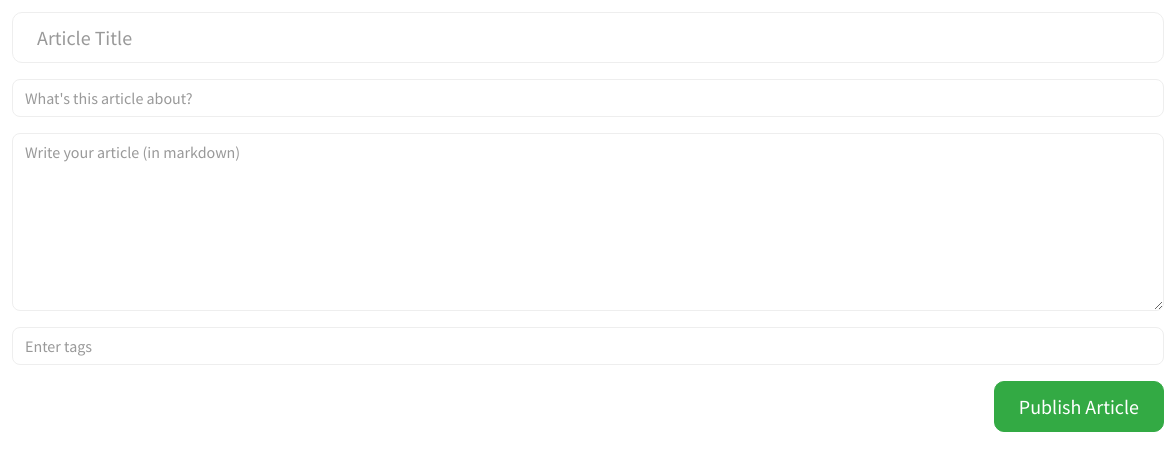
Test: ArticleEditorForm › create article › should display an error message when creating article fails
In the field with placeholder "Article Title": (588, 38) left=12, top=12, right=1164, bottom=63, type "Duplicate"
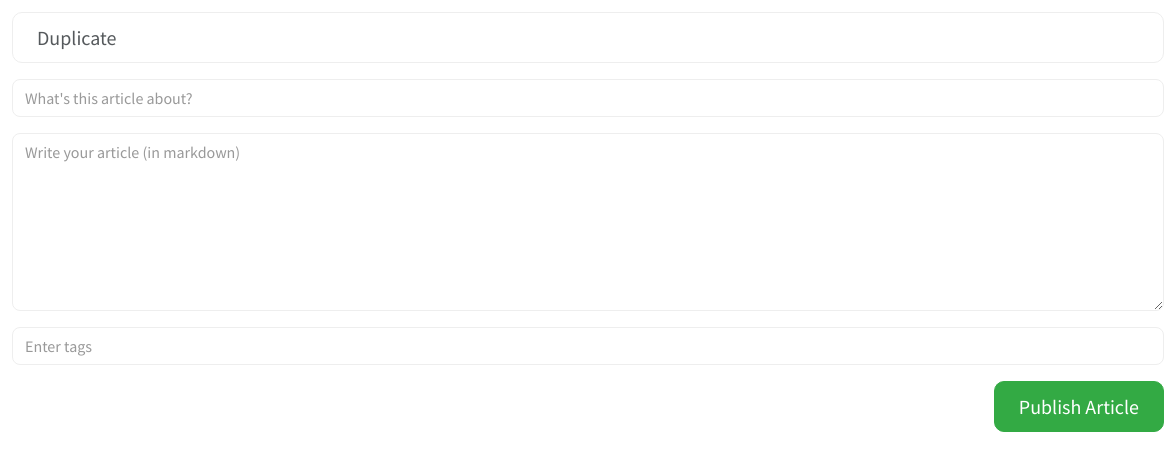
In the field with placeholder "What's this article about?": (588, 98) left=12, top=79, right=1164, bottom=117, type "Duplicate article"
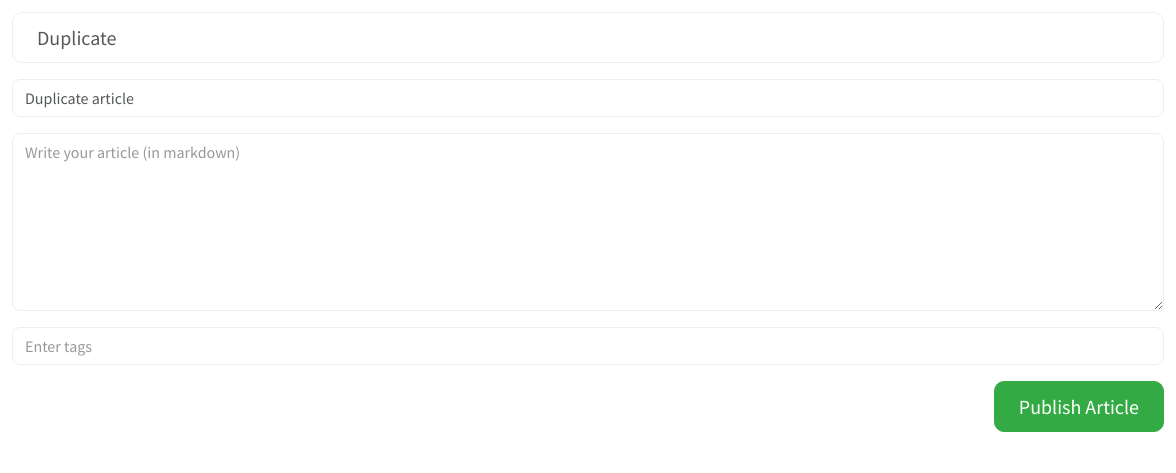
In the text box with placeholder "Write your article (in markdown)": (588, 222) left=12, top=133, right=1164, bottom=311, type "Clone"
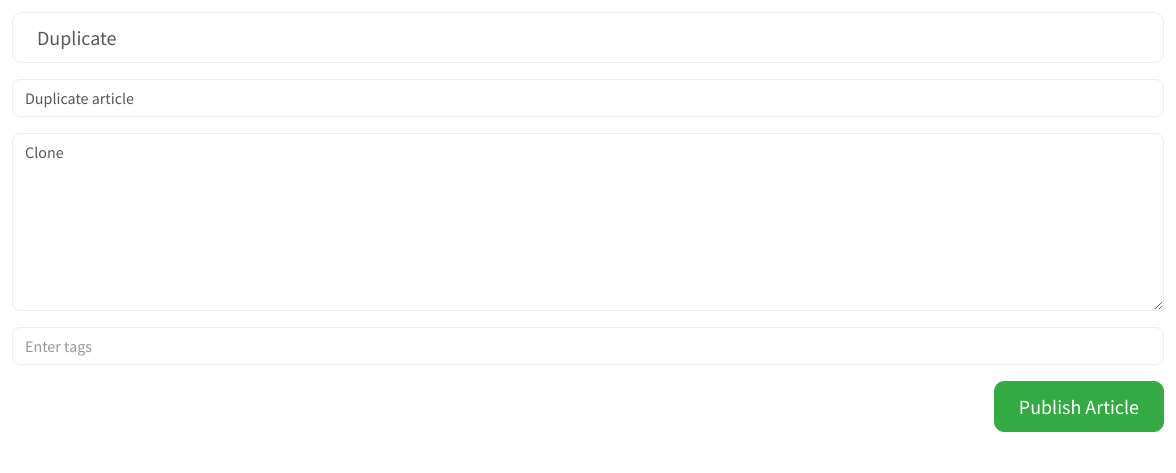
Click the button "Publish Article": (1079, 406) left=994, top=381, right=1164, bottom=432
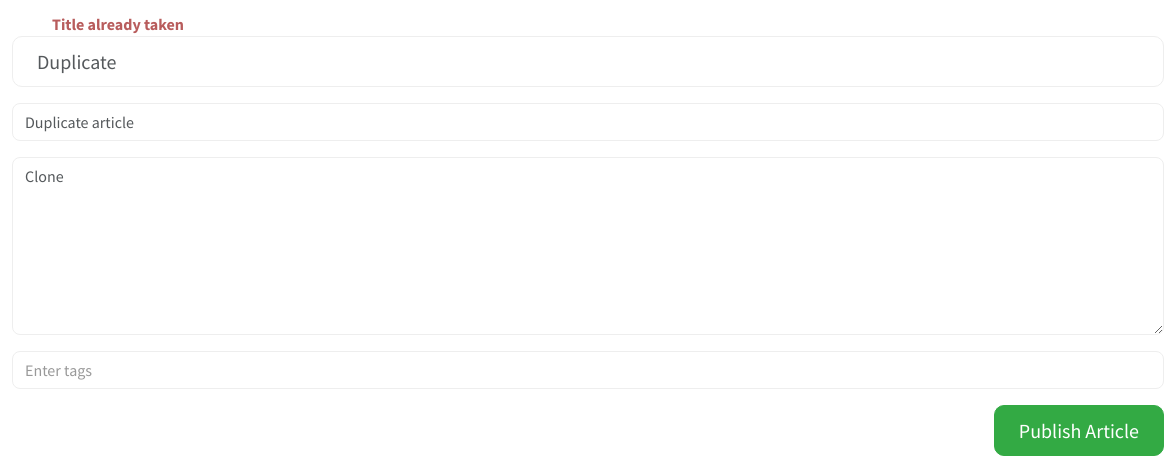
Now the text "Title already taken" is shown, box left=52, top=14, right=184, bottom=34
